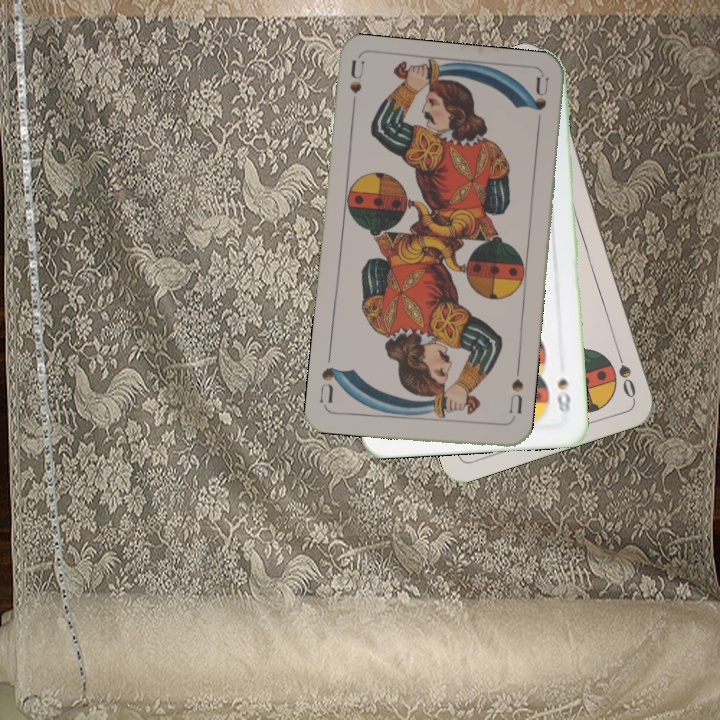S8: (553, 374, 573, 415)
SO: (611, 343, 638, 401)
SU: (346, 58, 367, 118), (503, 375, 526, 425)
